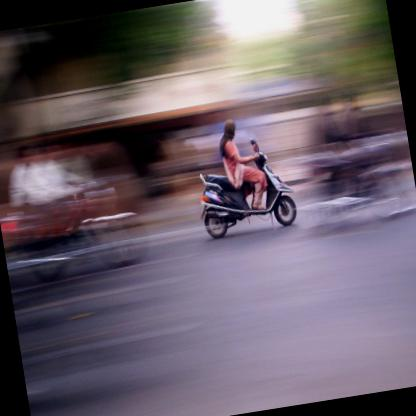motorcycle: (186, 111, 298, 240)
